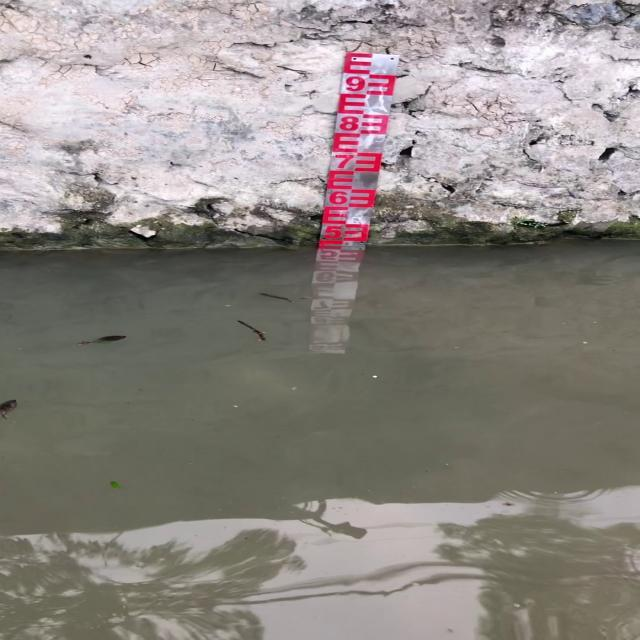ruler: (309, 43, 405, 251)
value: (341, 72, 368, 95), (335, 113, 361, 134), (330, 151, 356, 172), (326, 187, 351, 207), (322, 223, 344, 242)
